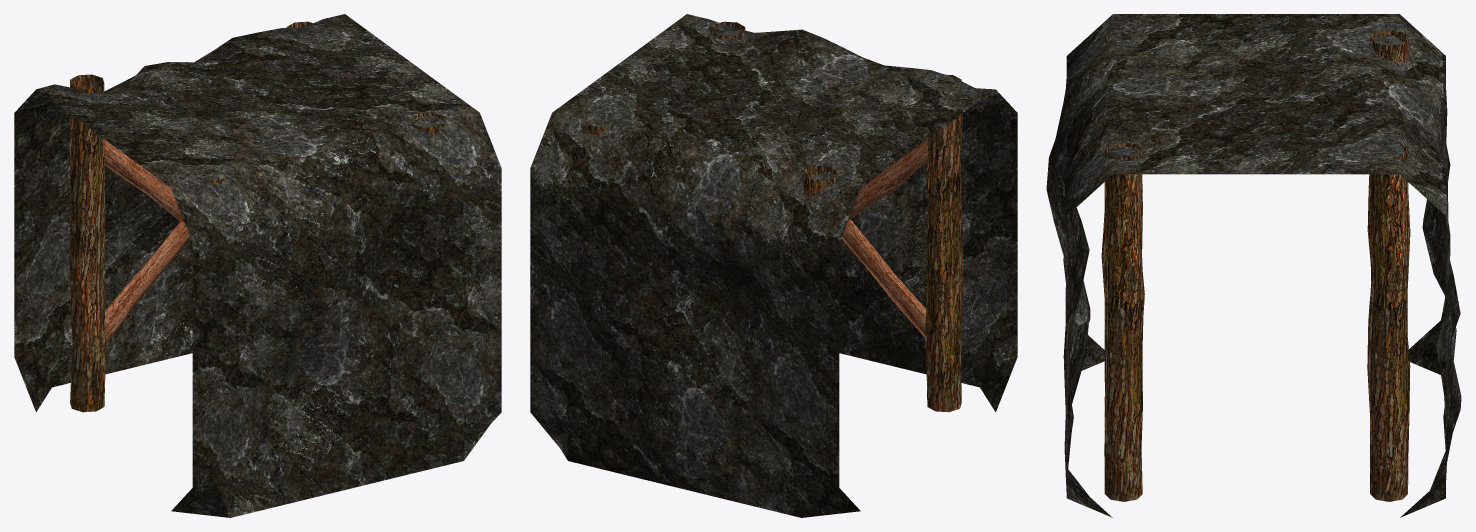
File: Cave_015.fbx
3 renders of one model, left to right at view 1: azimuth 30°, elevation 25°; view 2: azimuth 150°, elevation 25°; view 3: azimuth 270°, elevation 25°, orthographic. The views are drawn at different scales.
Parts seen in each view (by area): view 1: Cave.015; view 2: Cave.015; view 3: Cave.015.
Part boxes in pixels (left/top/right/bottom): Cave.015: left=14, top=14, right=501, bottom=517; Cave.015: left=530, top=14, right=1017, bottom=517; Cave.015: left=1046, top=14, right=1461, bottom=517.
Size of the model in its own units: 300 by 308 by 328.
